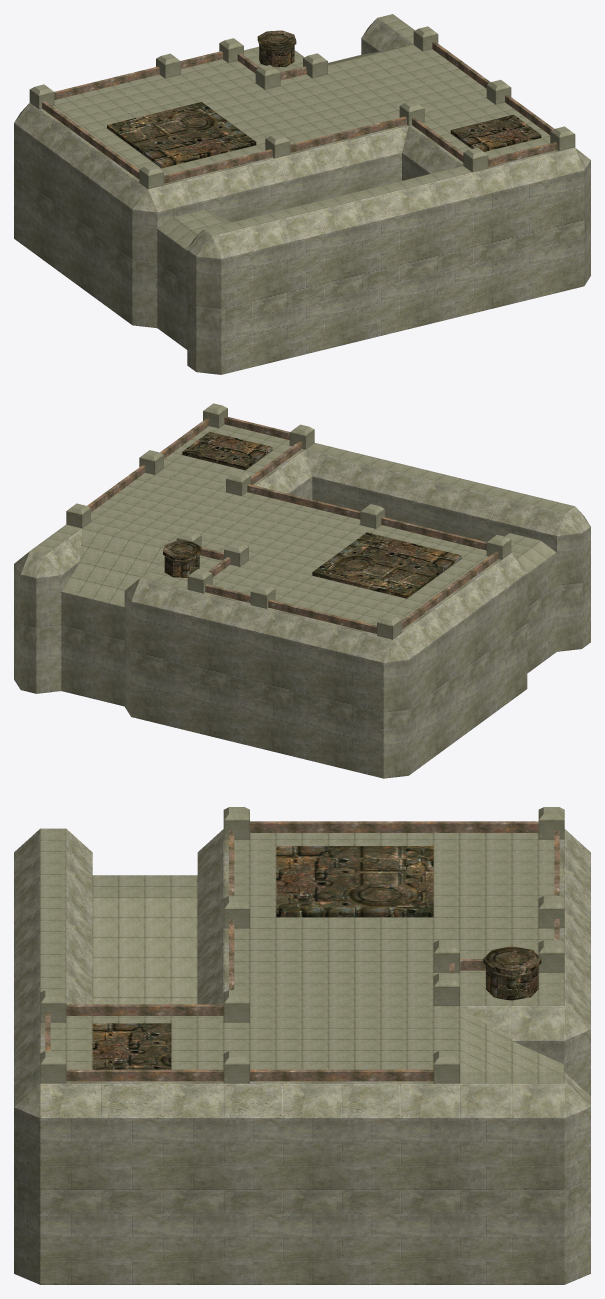
File: poi_all_bunker_allum_mine_r0_mesh_l1.fbx
The picture shows the model from 3 angles, top to bottom: view 1: azimuth 30°, elevation 25°; view 2: azimuth 150°, elevation 25°; view 3: azimuth 270°, elevation 25°; orthographic projection. The views are drawn at different scales.
Parts seen in each view (by area): view 1: mesh_node; view 2: mesh_node; view 3: mesh_node.
Boxes of the visible parts, left/top/right/bottom form: mesh_node: left=14, top=14, right=590, bottom=374; mesh_node: left=14, top=403, right=590, bottom=778; mesh_node: left=14, top=807, right=590, bottom=1284.
Size of the model in its own units: 25 by 11.3 by 22.
